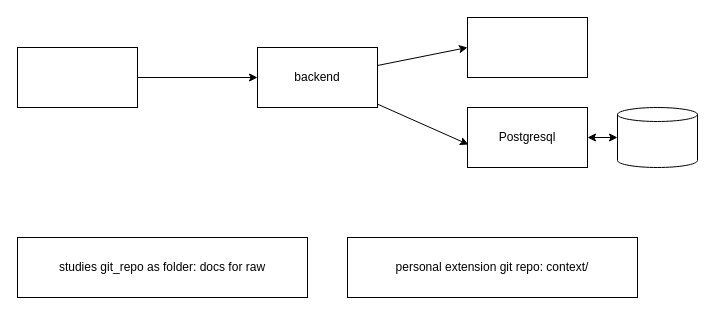
Image size: 715x315. Some labels were removed from this diagram. Each missing label, with the centre of its shape:
"Front End chat" goes at (x=77, y=77).
"Ollama" goes at (x=527, y=47).
